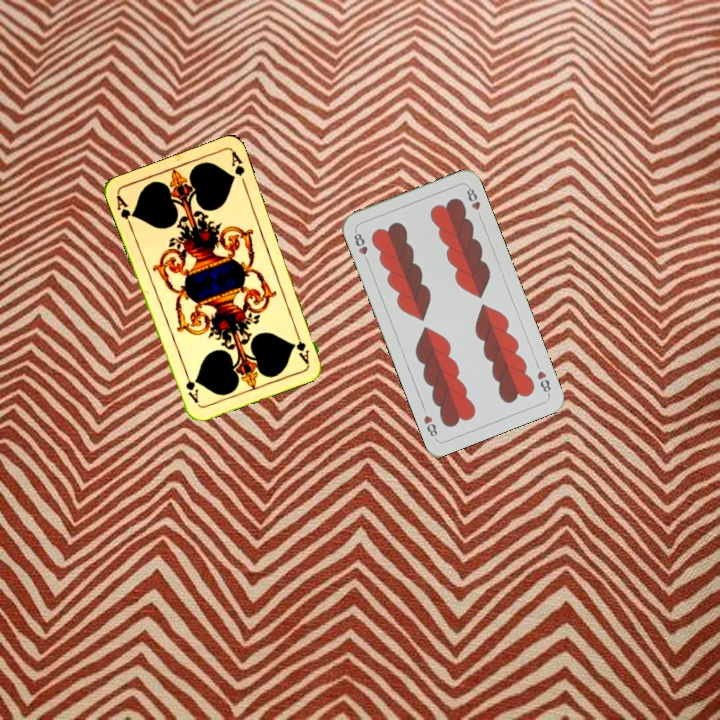GA: (112, 191, 137, 230), (291, 326, 312, 366)
H8: (350, 227, 372, 266), (533, 366, 553, 398)
